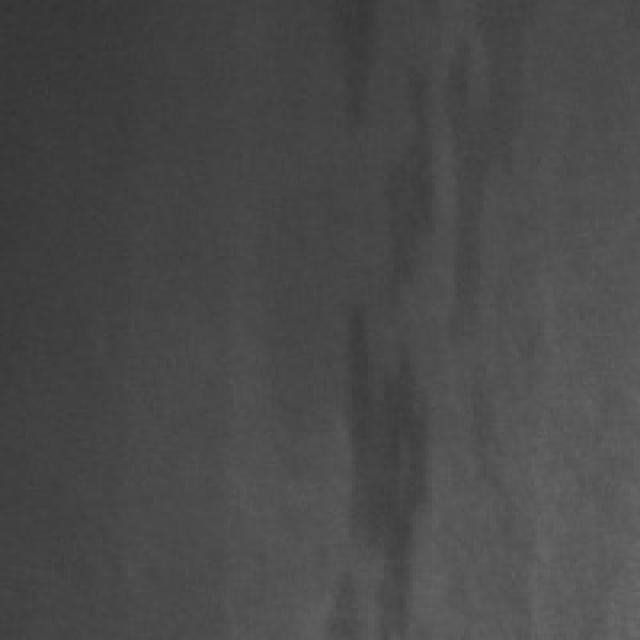inclusion: (326, 32, 432, 630), (442, 0, 547, 576), (314, 0, 387, 147)
